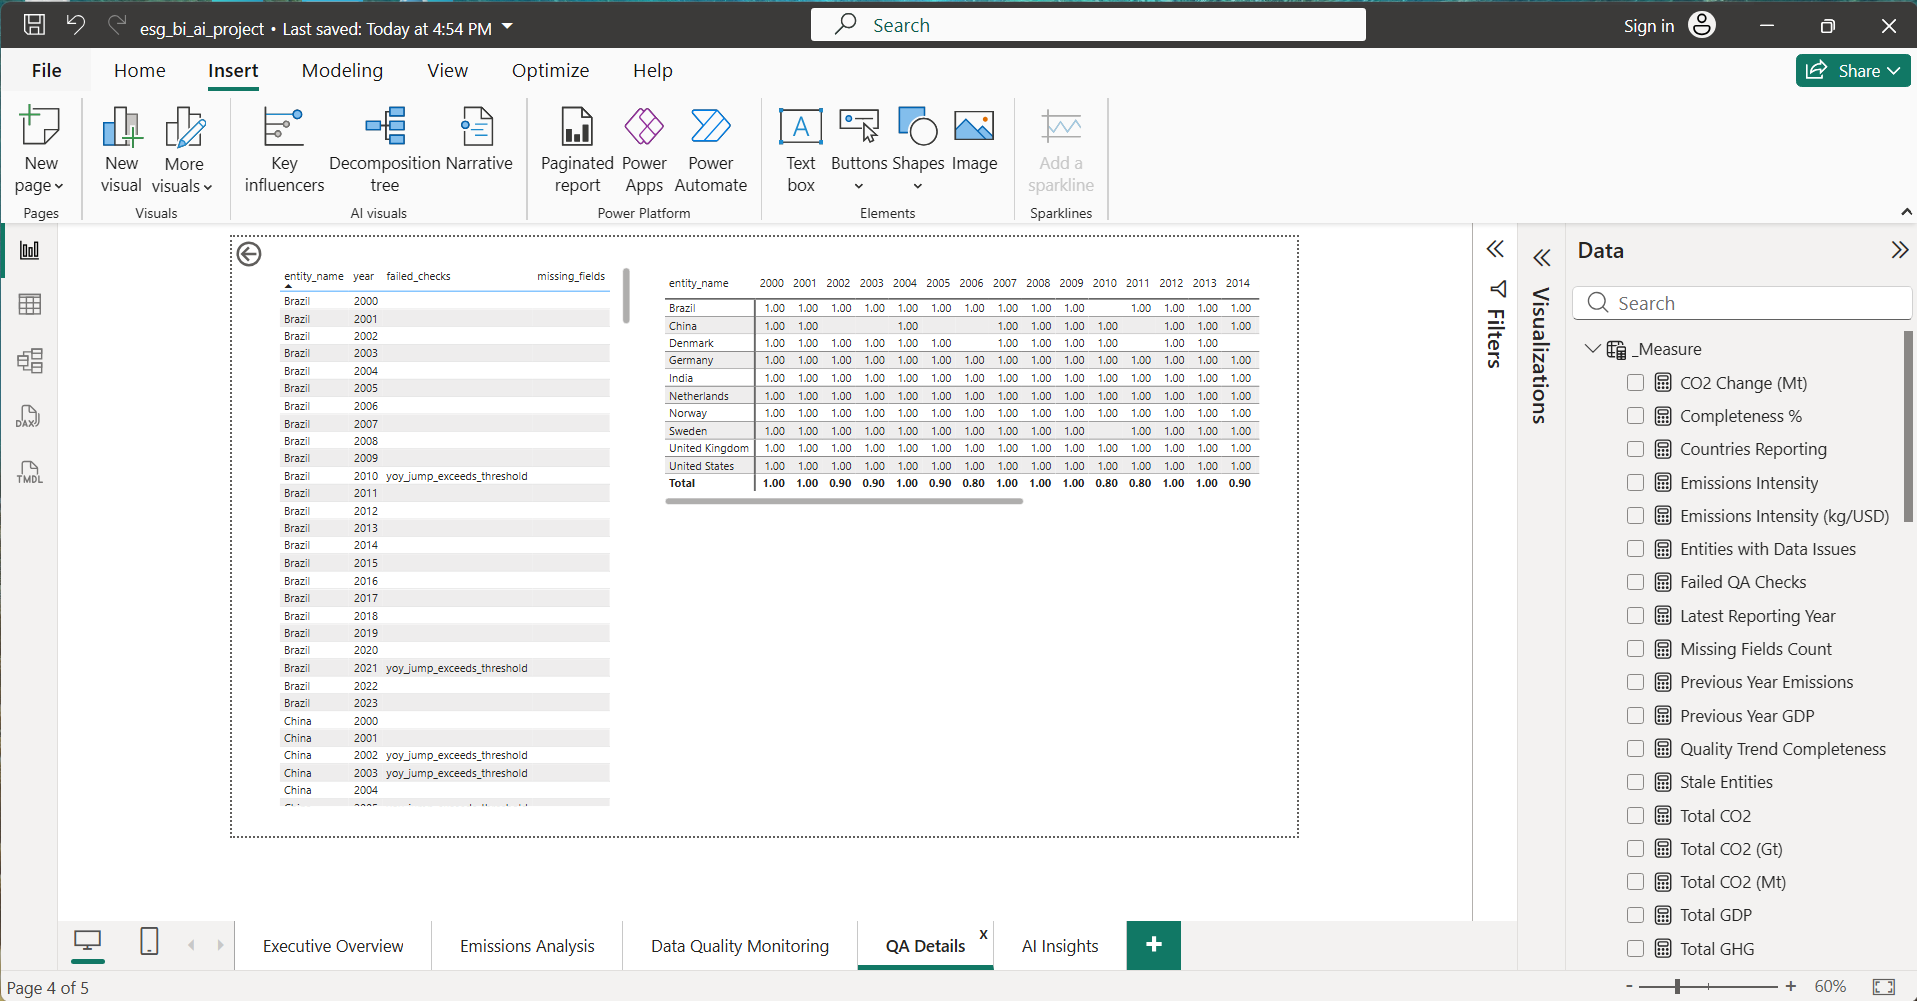

This screenshot's page, from the dashboard's own definition file:
{"tool":"powerbi","page":{"name":"QA Details","canvas":[1280,720],"ordinal":3},"visuals":[{"type":"tableEx","fields":{"Values":["DIM_ENTITY.entity_name","FACT_DATA_QUALITY.year","FACT_DATA_QUALITY.failed_checks","FACT_DATA_QUALITY.missing_fields"]},"box":[51.4,31.4,431.4,657.1],"z":0},{"type":"actionButton","box":[0,0,100,40],"z":1000},{"type":"pivotTable","fields":{"Columns":["DIM_DATE.year"],"Rows":["DIM_ENTITY.entity_name"],"Values":["_Measure.Validity %"]},"box":[514.3,40,724.3,287.1],"z":2000}]}

Visuals, with their boxes on the page's 1280x720 design canvas (x1, y1, x2, y2). These are canvas units, not pixel positions in the 1917x1001 screenshot, which may show the page scaled, cropped or inside an application window:
tableEx - DIM_ENTITY.entity_name x FACT_DATA_QUALITY.year: <bbox>51, 31, 483, 688</bbox>
actionButton: <bbox>0, 0, 100, 40</bbox>
pivotTable - DIM_DATE.year x DIM_ENTITY.entity_name: <bbox>514, 40, 1239, 327</bbox>
